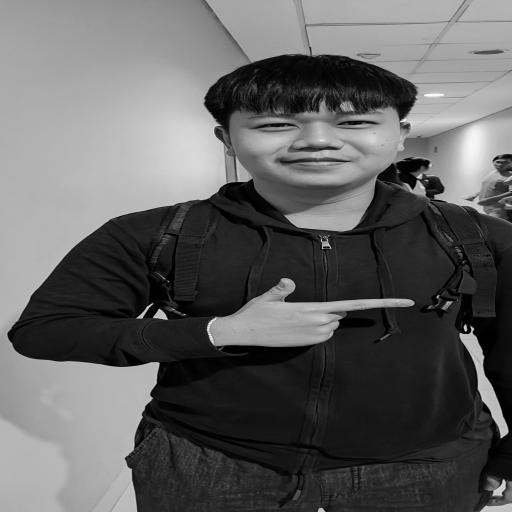next: (192, 269, 445, 361)
